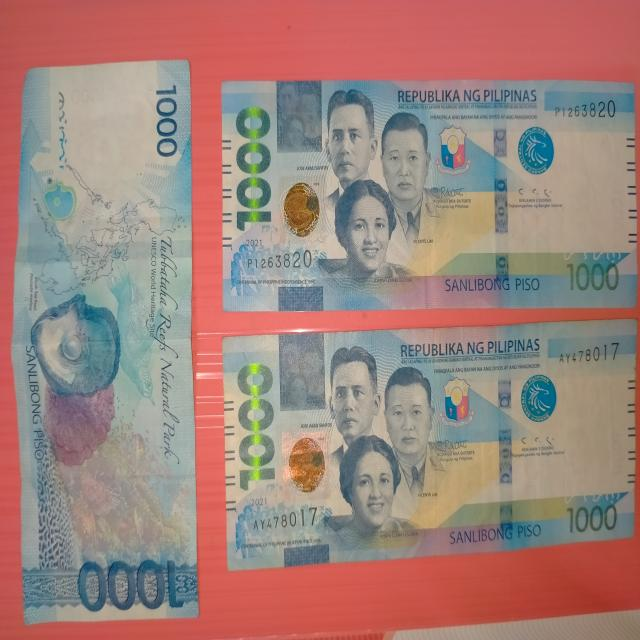concealed_value: (278, 332, 328, 409), (276, 79, 323, 151)
optically_variable_device: (278, 428, 332, 504), (277, 170, 328, 248)
see_through_mark: (557, 240, 629, 266), (557, 484, 624, 510)
value_watermark: (608, 182, 626, 237), (608, 424, 626, 478)
